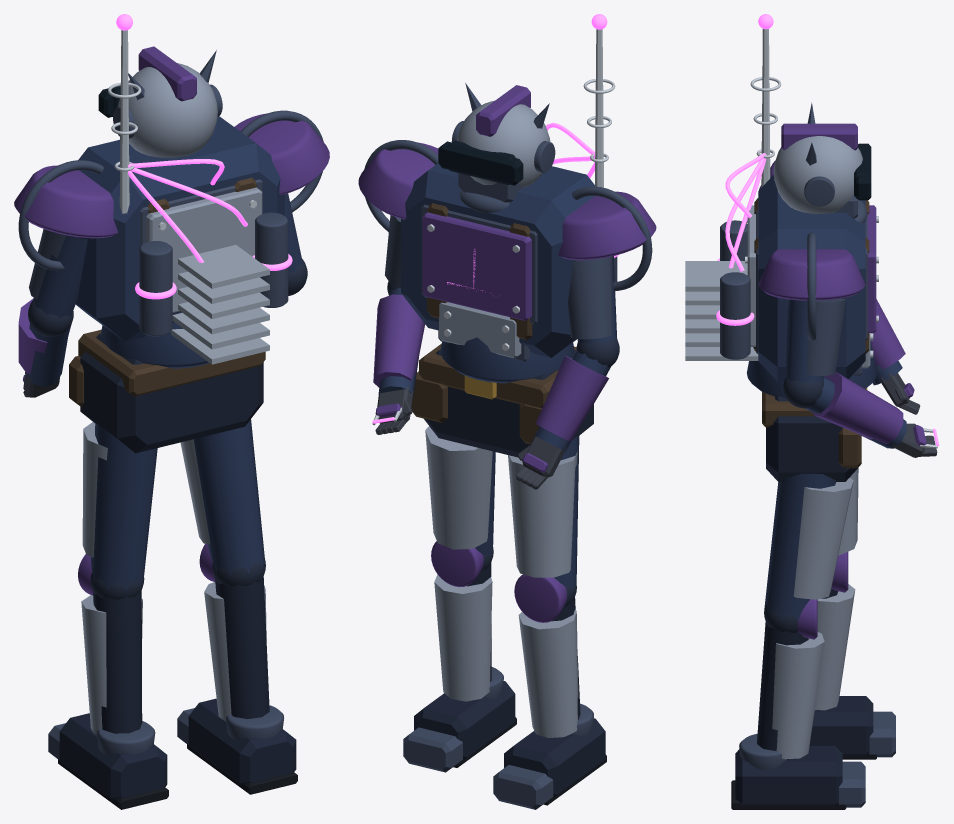
The model's file is hero_tempest.glb.
3 views of the same model, side by side, from view 1: azimuth 30°, elevation 25°; view 2: azimuth 150°, elevation 25°; view 3: azimuth 270°, elevation 25° (orthographic). The views are drawn at different scales.
Visible parts, largest first — view 1: hero_tempest_chest, hero_tempest_pelvis, hero_tempest_spine_fins, hero_tempest_thigh_l, hero_tempest_thigh_r, hero_tempest_helmet, hero_tempest_back_plate_face, hero_tempest_shin_r, hero_tempest_shin_l, hero_tempest_boot_l, hero_tempest_boot_r, hero_tempest_pauldron-1 (+30 smaller); view 2: hero_tempest_chest, hero_tempest_chest_plate_face, hero_tempest_thigh_plate_r, hero_tempest_thigh_plate_l, hero_tempest_greave_l, hero_tempest_greave_r, hero_tempest_pelvis, hero_tempest_pauldron-1, hero_tempest_boot_l, hero_tempest_boot_r, hero_tempest_bracer_r, hero_tempest_helmet (+32 smaller); view 3: hero_tempest_chest, hero_tempest_boot_r, hero_tempest_greave_r, hero_tempest_thigh_plate_r, hero_tempest_helmet, hero_tempest_pelvis, hero_tempest_thigh_r, hero_tempest_pauldron1, hero_tempest_spine_fins, hero_tempest_bracer_r, hero_tempest_greave_l, hero_tempest_boot_l (+30 smaller).
Boxes of the visible parts, bbox=[...] form: hero_tempest_chest: bbox=[75, 116, 284, 341]; hero_tempest_pelvis: bbox=[80, 333, 263, 453]; hero_tempest_spine_fins: bbox=[171, 245, 269, 364]; hero_tempest_thigh_l: bbox=[91, 423, 157, 590]; hero_tempest_thigh_r: bbox=[193, 419, 264, 575]; hero_tempest_helmet: bbox=[118, 63, 217, 157]; hero_tempest_back_plate_face: bbox=[146, 187, 262, 312]; hero_tempest_shin_r: bbox=[215, 577, 269, 718]; hero_tempest_shin_l: bbox=[93, 591, 142, 733]; hero_tempest_boot_l: bbox=[59, 713, 167, 800]; hero_tempest_boot_r: bbox=[188, 698, 296, 785]; hero_tempest_pauldron-1: bbox=[14, 165, 117, 238]; hero_tempest_chest: bbox=[401, 163, 613, 357]; hero_tempest_chest_plate_face: bbox=[422, 212, 531, 320]; hero_tempest_thigh_plate_r: bbox=[425, 426, 492, 549]; hero_tempest_thigh_plate_l: bbox=[508, 452, 577, 577]; hero_tempest_greave_l: bbox=[518, 610, 578, 738]; hero_tempest_greave_r: bbox=[434, 574, 492, 701]; hero_tempest_pelvis: bbox=[424, 349, 593, 457]; hero_tempest_pauldron-1: bbox=[558, 191, 656, 260]; hero_tempest_boot_l: bbox=[504, 718, 605, 796]; hero_tempest_boot_r: bbox=[414, 681, 515, 759]; hero_tempest_bracer_r: bbox=[373, 294, 425, 387]; hero_tempest_helmet: bbox=[457, 100, 550, 187]; hero_tempest_chest: bbox=[758, 175, 865, 381]; hero_tempest_boot_r: bbox=[735, 746, 842, 805]; hero_tempest_greave_r: bbox=[772, 632, 824, 759]; hero_tempest_thigh_plate_r: bbox=[793, 477, 853, 599]; hero_tempest_helmet: bbox=[773, 136, 862, 213]; hero_tempest_pelvis: bbox=[766, 396, 857, 481]; hero_tempest_thigh_r: bbox=[764, 473, 835, 621]; hero_tempest_pauldron1: bbox=[758, 249, 865, 300]; hero_tempest_spine_fins: bbox=[685, 261, 758, 360]; hero_tempest_bracer_r: bbox=[813, 372, 903, 443]; hero_tempest_greave_l: bbox=[815, 584, 855, 710]; hero_tempest_boot_l: bbox=[809, 696, 873, 755].
Size of the model in its own units: 0.8436 by 2.1 by 0.6632.
